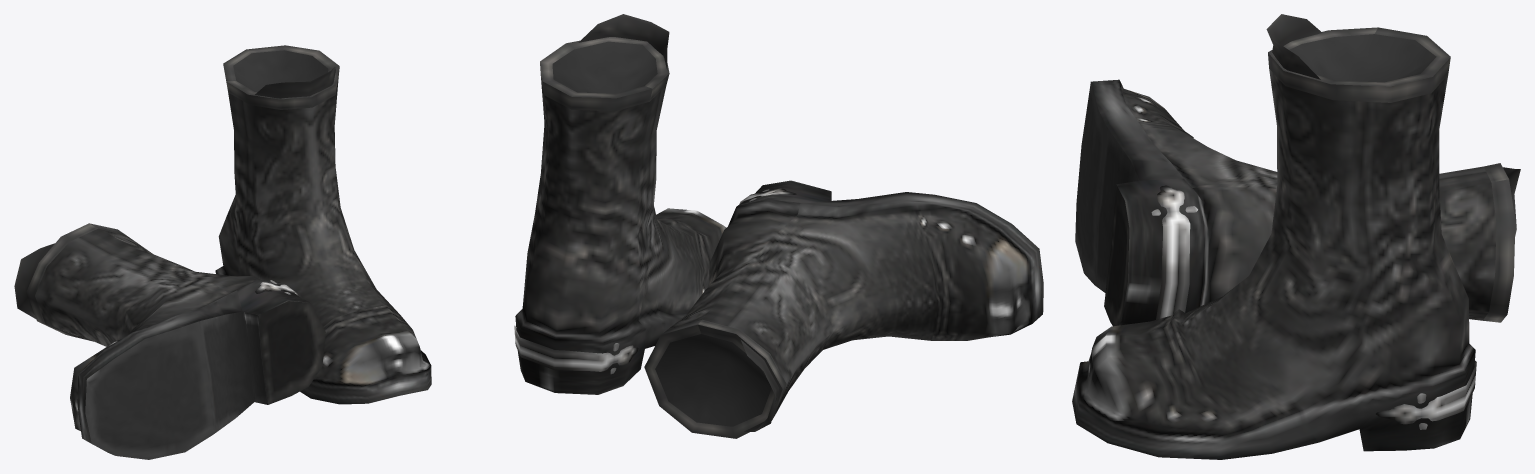
Rendered from Regular_Boot_Ground.fbx.
3 renders of one model, left to right at view 1: azimuth 30°, elevation 25°; view 2: azimuth 150°, elevation 25°; view 3: azimuth 270°, elevation 25°, orthographic. The views are drawn at different scales.
Parts seen in each view (by area): view 1: Regular_Boot; view 2: Regular_Boot; view 3: Regular_Boot.
Part boxes in pixels (x1=…): Regular_Boot: x1=14, y1=45, x2=431, y2=459; Regular_Boot: x1=514, y1=14, x2=1043, y2=438; Regular_Boot: x1=1072, y1=14, x2=1520, y2=459.
Size of the model in its own units: 0.2059 by 0.1642 by 0.1573.
